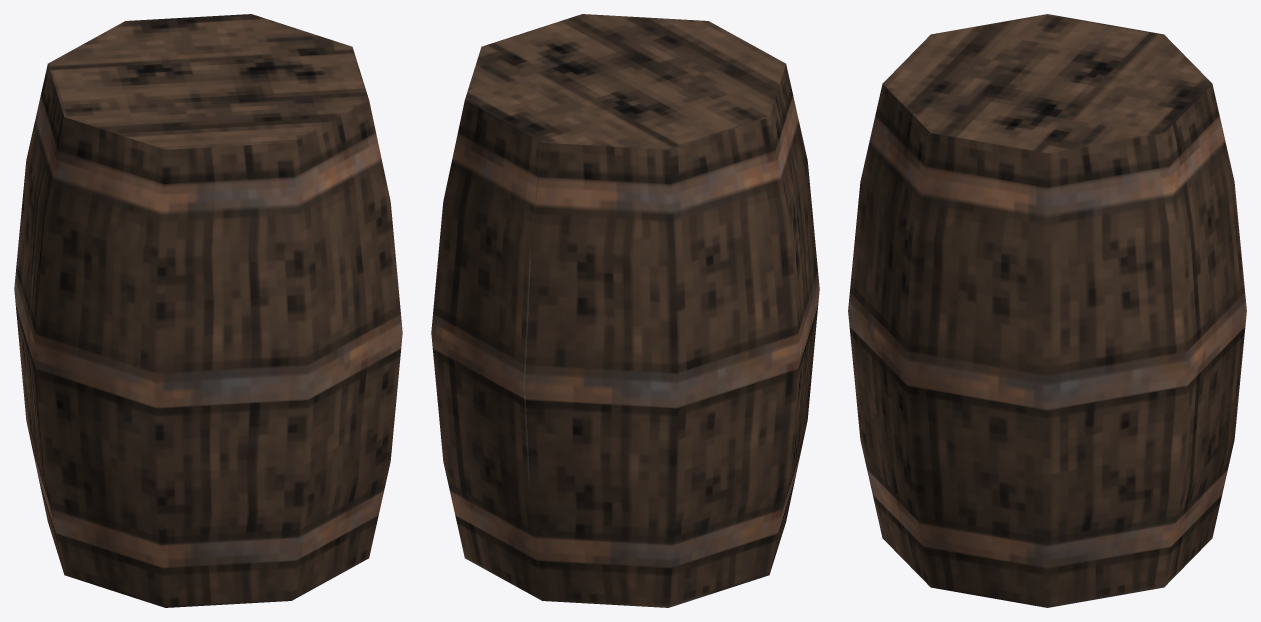
File: Wooden Barrel.fbx
The picture shows the model from 3 angles, left to right: view 1: azimuth 30°, elevation 25°; view 2: azimuth 150°, elevation 25°; view 3: azimuth 270°, elevation 25°; orthographic projection.
Parts seen in each view (by area): view 1: Cylinder.011; view 2: Cylinder.011; view 3: Cylinder.011.
Boxes of the visible parts, x1,y1,x2,y2 form: Cylinder.011: [14, 14, 402, 607]; Cylinder.011: [431, 14, 819, 607]; Cylinder.011: [848, 14, 1246, 607].
Bounding box in the file's own units: 445 × 559 × 445.
